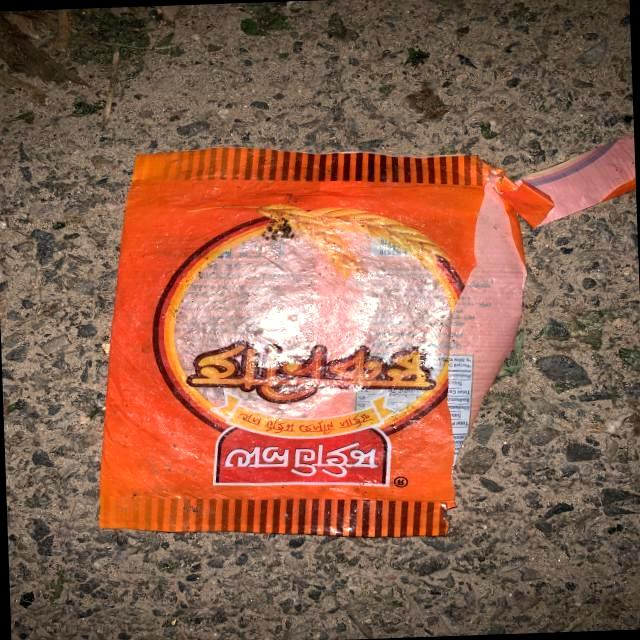packet: (101, 141, 544, 541)
